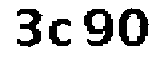0: (116, 6, 151, 47)
3: (15, 6, 44, 48)
9: (82, 6, 115, 50)
c: (47, 16, 77, 49)
